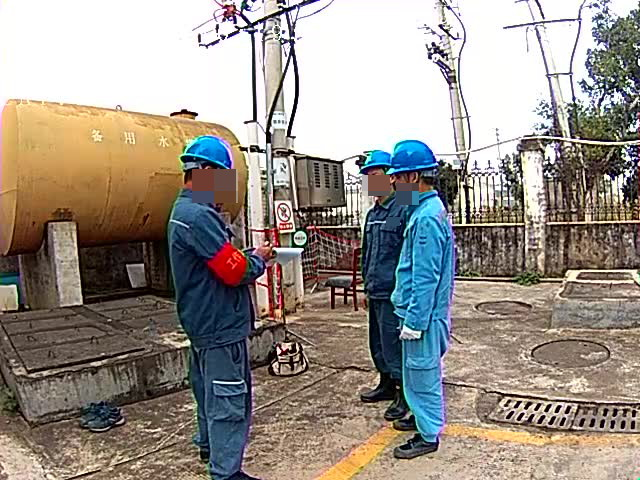badge: (206, 242, 249, 287)
downsuit: (188, 345, 254, 472), (396, 319, 450, 439), (364, 305, 399, 374)
halt: (179, 136, 237, 199), (386, 140, 441, 199), (358, 150, 393, 199)
hand: (253, 242, 277, 263)
inear: (196, 162, 220, 197), (405, 168, 423, 200), (385, 169, 395, 189)
person: (164, 133, 273, 480), (385, 138, 460, 458), (355, 150, 409, 421)
shoe: (361, 369, 408, 419)
upsuit: (167, 186, 268, 342), (391, 191, 461, 315), (359, 198, 409, 302)
wglove: (399, 324, 423, 340)
